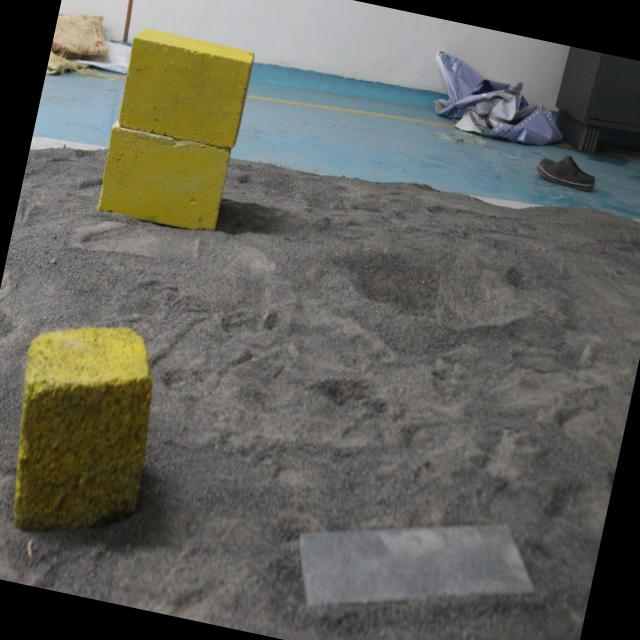box: (0, 314, 172, 550), (90, 16, 265, 247)
crater: (312, 206, 541, 352)
